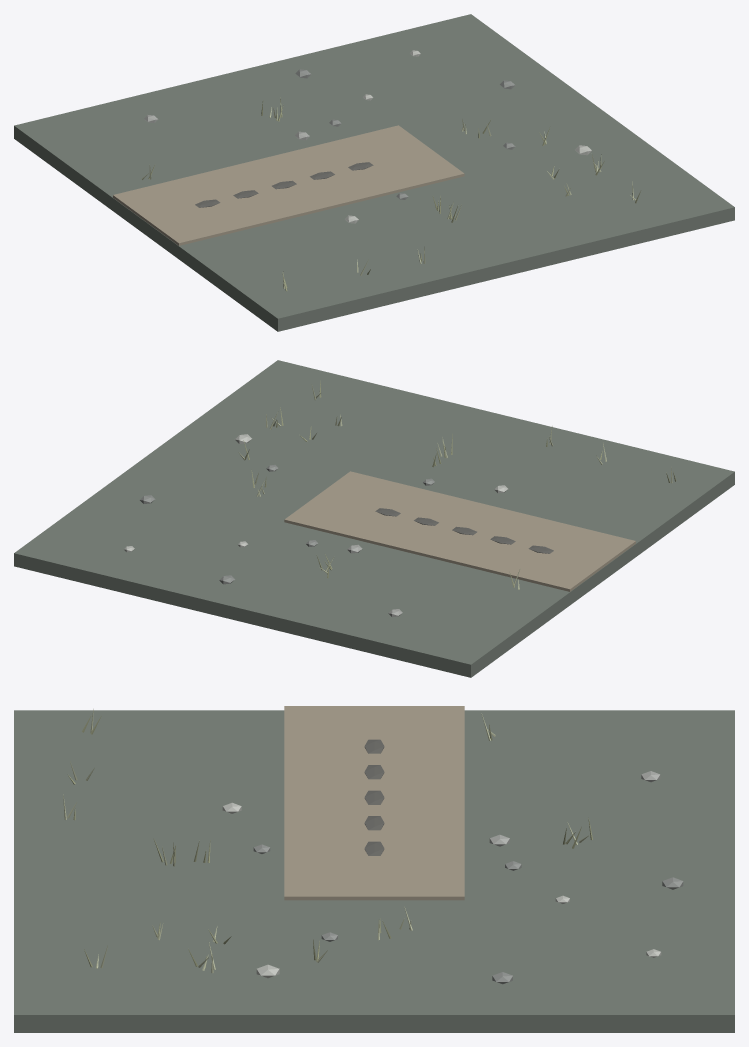
File: path_cap_w.glb
3 renders of one model, top to bottom at view 1: azimuth 30°, elevation 25°; view 2: azimuth 150°, elevation 25°; view 3: azimuth 270°, elevation 25°, orthographic. The views are drawn at different scales.
Parts seen in each view (by area): view 1: road_material_00, road_material_01, road_material_07, road_material_03, road_material_02; view 2: road_material_00, road_material_01, road_material_07, road_material_02; view 3: road_material_00, road_material_01, road_material_07, road_material_03, road_material_02, road_material_04, road_material_05.
Boxes of the visible parts, <box> form: road_material_00: <box>14,14,734,331</box>; road_material_01: <box>113,125,464,245</box>; road_material_07: <box>195,162,373,207</box>; road_material_03: <box>141,106,635,288</box>; road_material_02: <box>148,97,641,291</box>; road_material_00: <box>14,360,734,677</box>; road_material_01: <box>284,471,635,591</box>; road_material_07: <box>375,508,553,553</box>; road_material_02: <box>243,380,676,587</box>; road_material_00: <box>14,710,734,1032</box>; road_material_01: <box>284,706,464,900</box>; road_material_07: <box>364,739,384,855</box>; road_material_03: <box>63,709,589,973</box>; road_material_02: <box>68,715,592,968</box>; road_material_04: <box>253,844,683,984</box>; road_material_05: <box>222,802,661,978</box>.
Size of the model in its own units: 8 by 0.5382 by 8.
